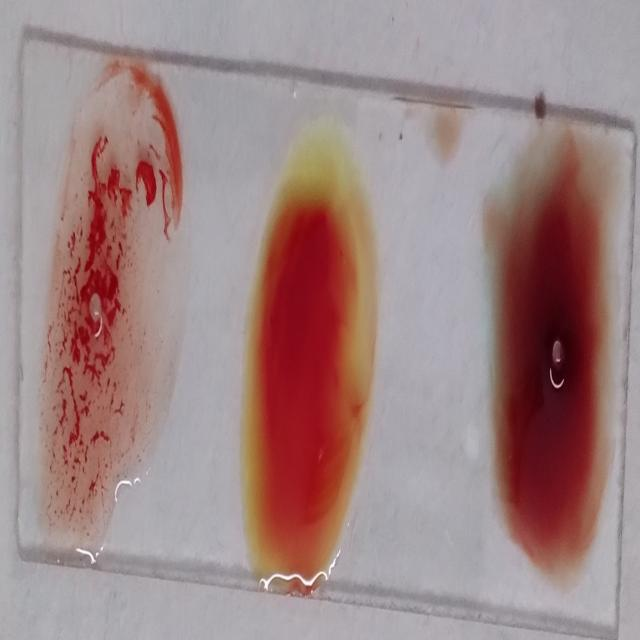D: (51, 54, 180, 539)
